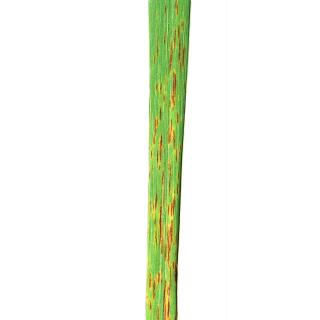Bercak-Cokelat-Sempit: (146, 0, 191, 320)
